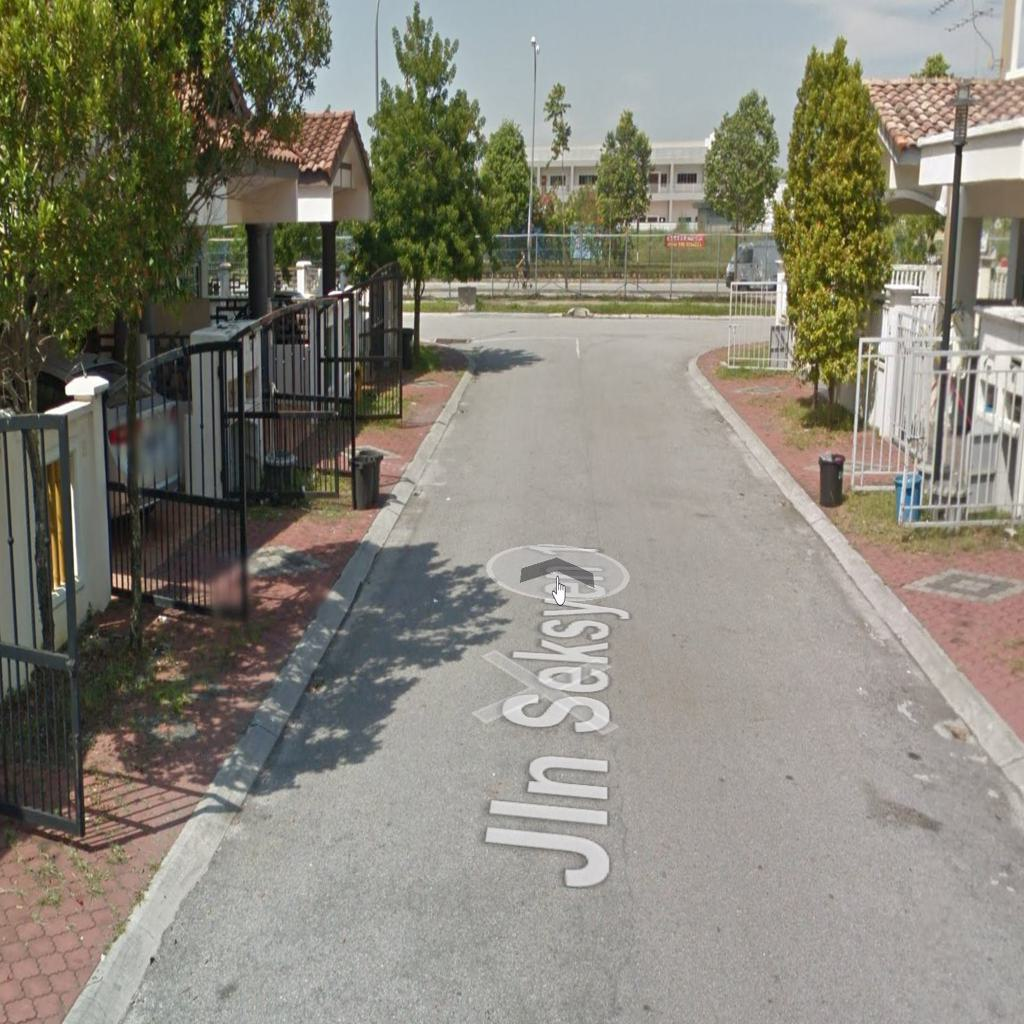Junction: (646, 300, 767, 370), (406, 288, 500, 367)
